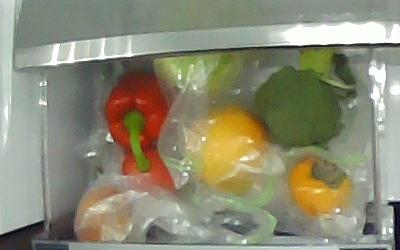broccoli: (255, 48, 342, 146)
grapefruit_vinyl: (192, 108, 267, 194)
lettuce_vinyl: (154, 49, 248, 91)
paprika: (105, 73, 168, 172)
peach_vinyl: (74, 186, 133, 243)
persimmon_vinyl: (290, 155, 354, 218)
